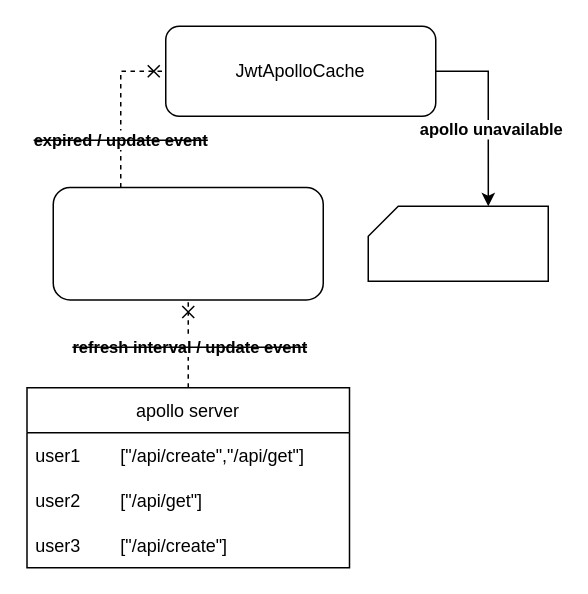
The diagram is 588 pixels wide and 594 high, and some of its shapes have lost their labels. Here are the shapes that lost their labels. From the top down, the centre of each, then its label:
pixel 187 243: Apollo client cache
pixel 457 243: chassis.yaml
